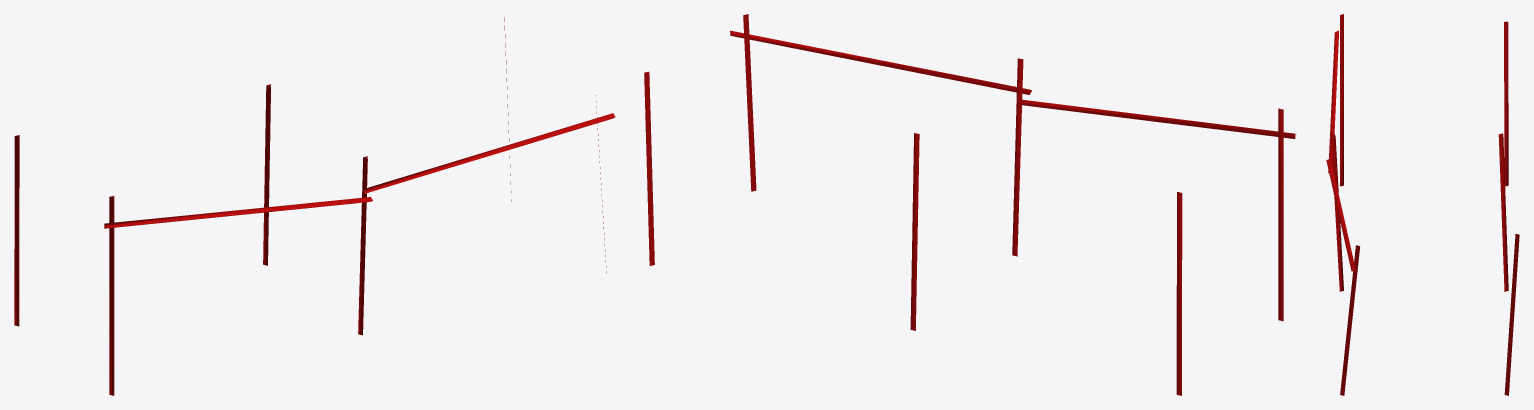
File: canopy_4.glb
3 views of the same model, side by side, from view 1: azimuth 30°, elevation 25°; view 2: azimuth 150°, elevation 25°; view 3: azimuth 270°, elevation 25° (orthographic). The views are drawn at different scales.
Visible parts, largest first — view 1: MODEL_s_bazaar_lod0; view 2: MODEL_s_bazaar_lod0; view 3: MODEL_s_bazaar_lod0.
Boxes of the visible parts, bbox=[...] form: MODEL_s_bazaar_lod0: bbox=[14, 17, 615, 395]; MODEL_s_bazaar_lod0: bbox=[644, 14, 1296, 395]; MODEL_s_bazaar_lod0: bbox=[1326, 14, 1519, 395].
Size of the model in its own units: 3.15 by 1.15 by 1.17.
